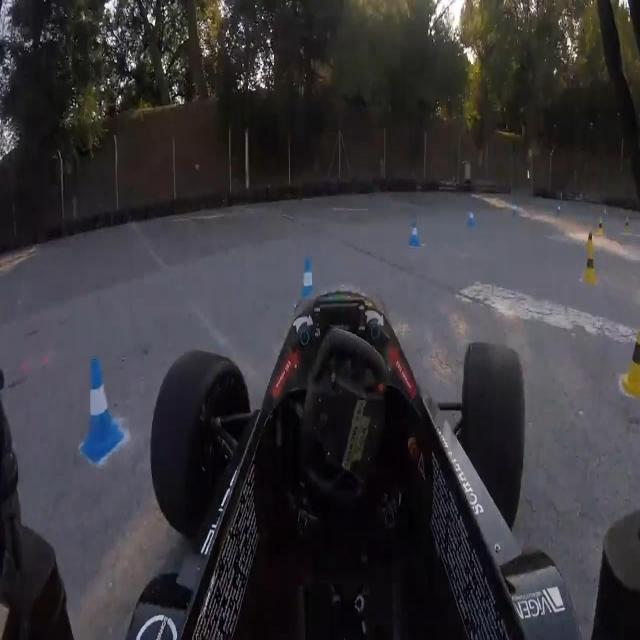blue_cone: (72, 355, 127, 471), (296, 249, 322, 321), (406, 212, 421, 252), (466, 207, 477, 231), (510, 197, 519, 221)
yellow_cone: (620, 329, 640, 400), (579, 242, 598, 286), (584, 228, 596, 252), (596, 217, 606, 238), (622, 216, 632, 236)
